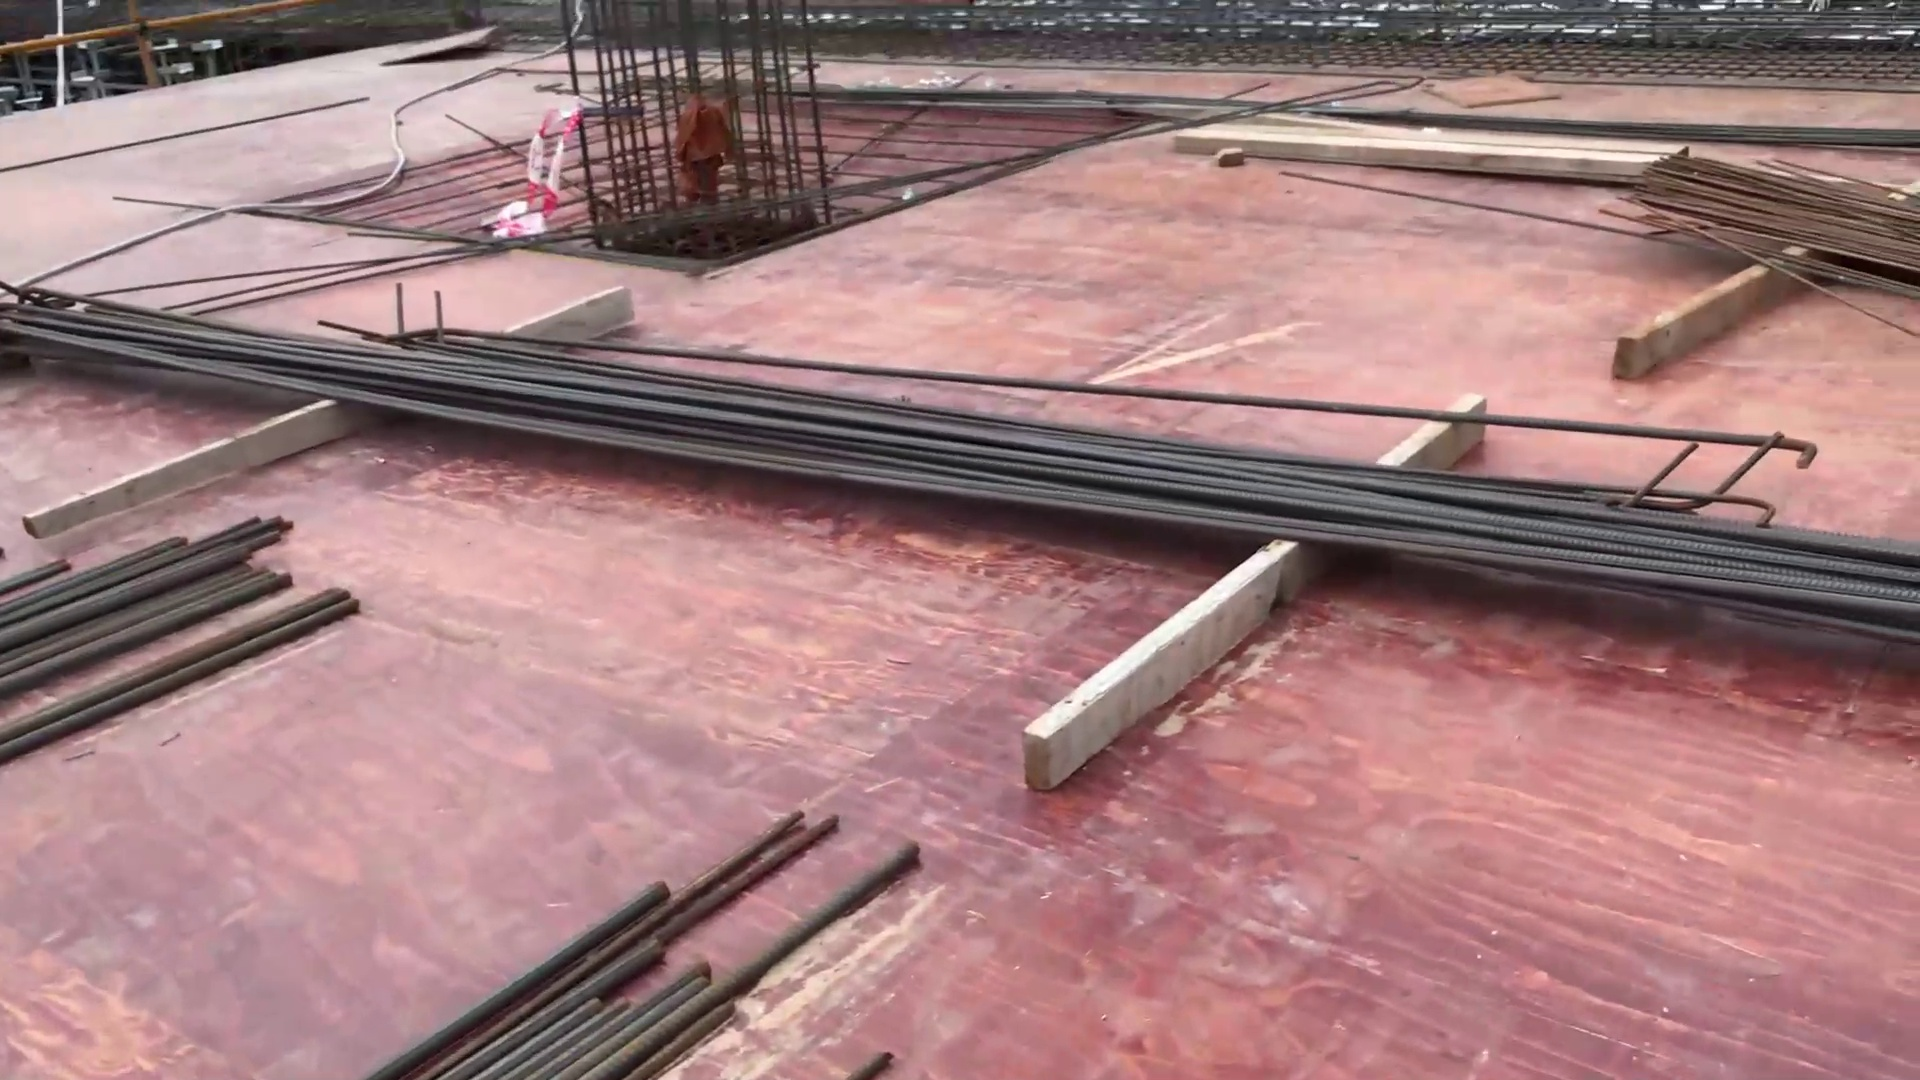rebar: (9, 240, 1916, 713)
